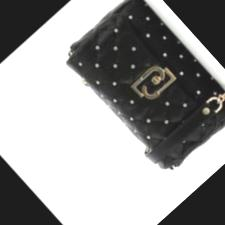LIU-JO: (128, 58, 176, 106)
